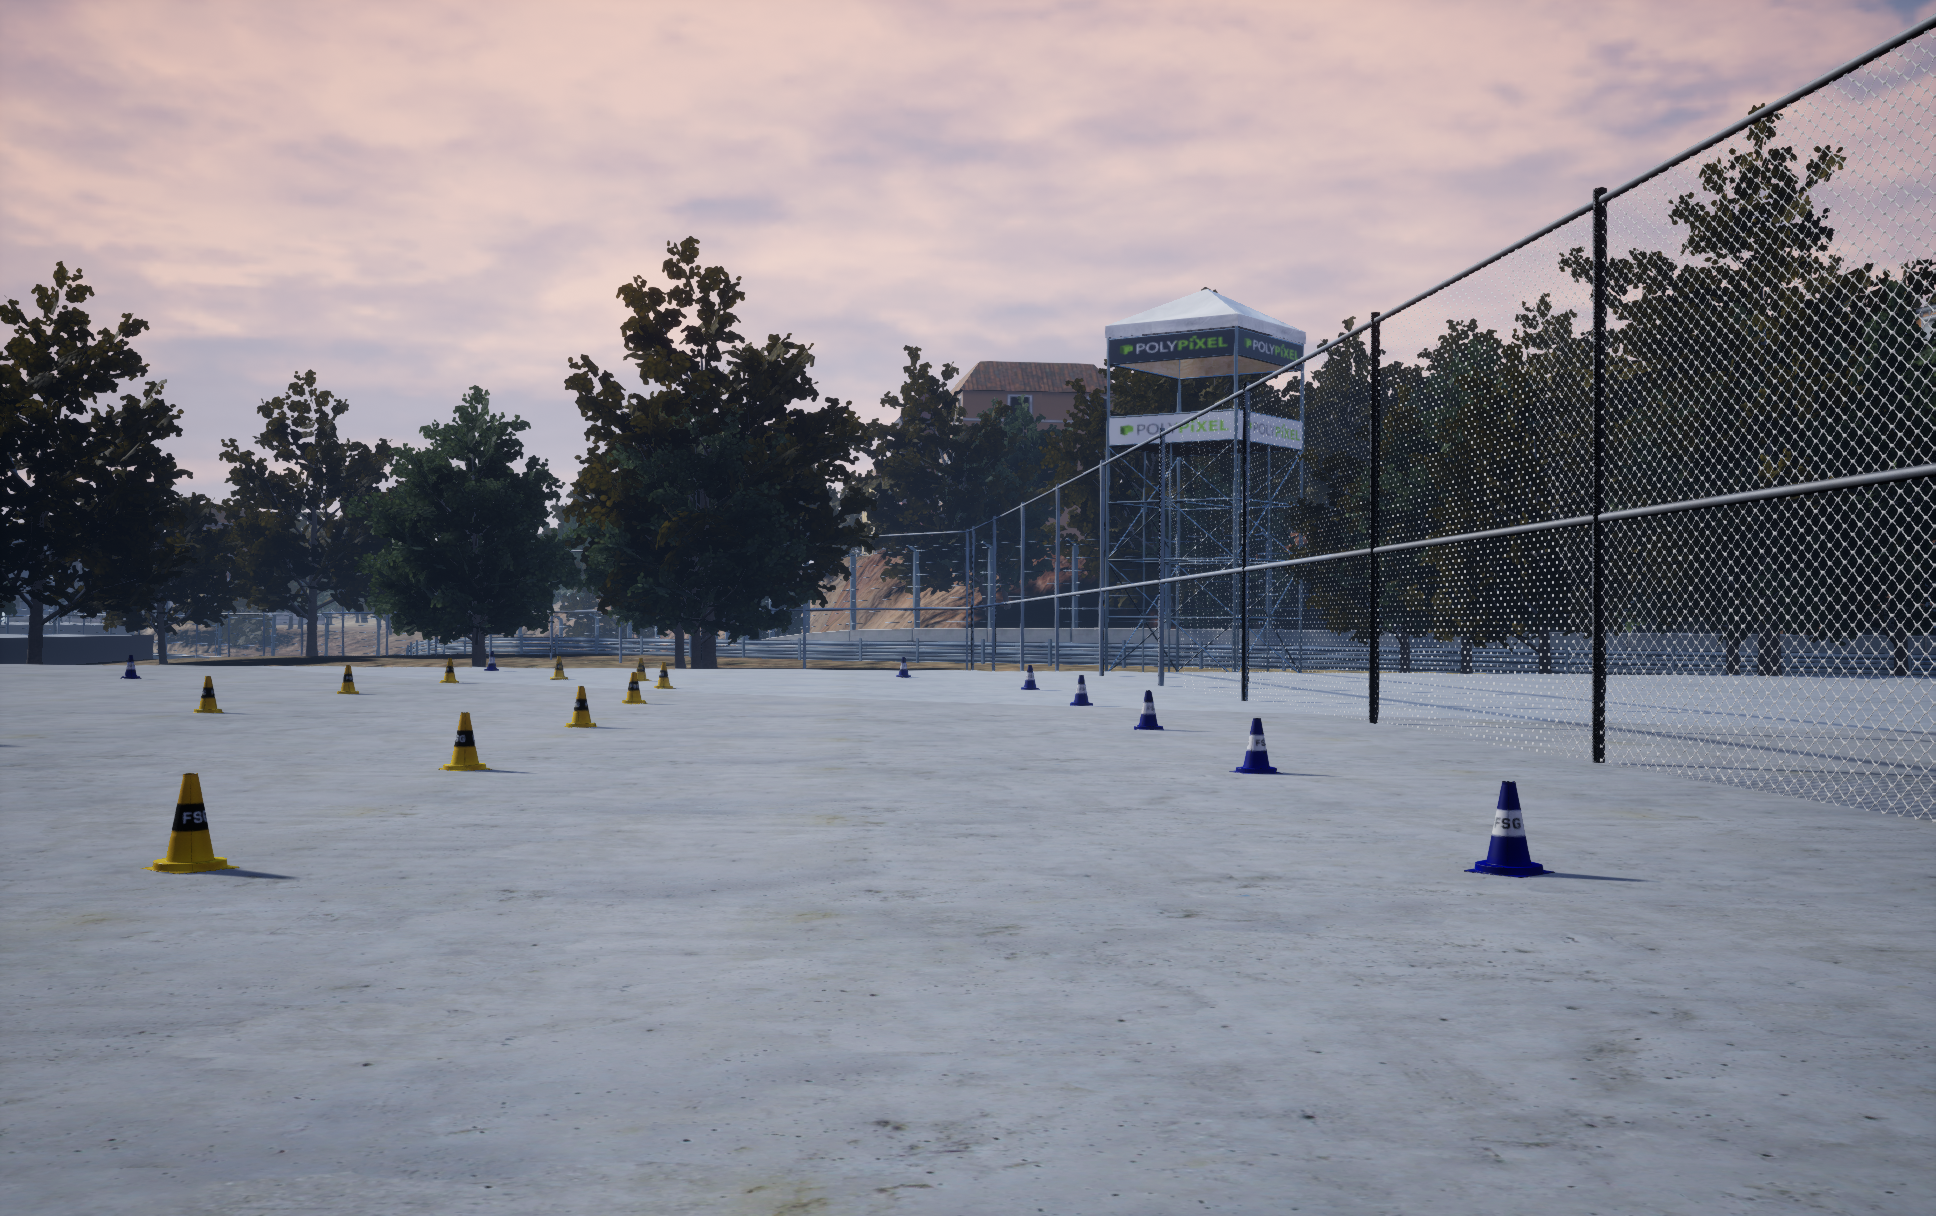blue: (140, 773, 240, 873), (438, 712, 490, 771), (565, 686, 595, 727), (193, 677, 223, 712), (622, 672, 647, 703), (338, 665, 359, 693), (654, 663, 675, 688), (438, 658, 458, 682), (551, 656, 567, 679), (636, 658, 651, 679)
yellow: (1464, 780, 1554, 877), (1229, 719, 1282, 773), (1133, 691, 1163, 728), (1070, 675, 1093, 705), (120, 656, 141, 678), (1021, 665, 1039, 689), (897, 657, 911, 677), (485, 651, 497, 670)
